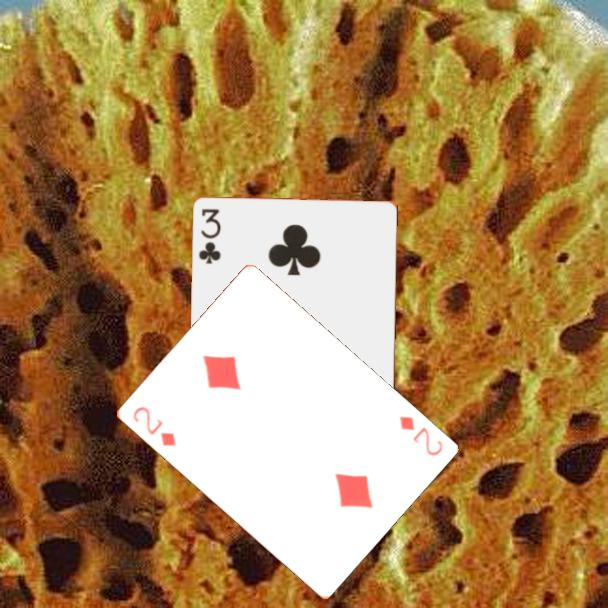c03: (195, 205, 224, 267)
d02: (395, 412, 446, 459), (129, 403, 179, 449)
